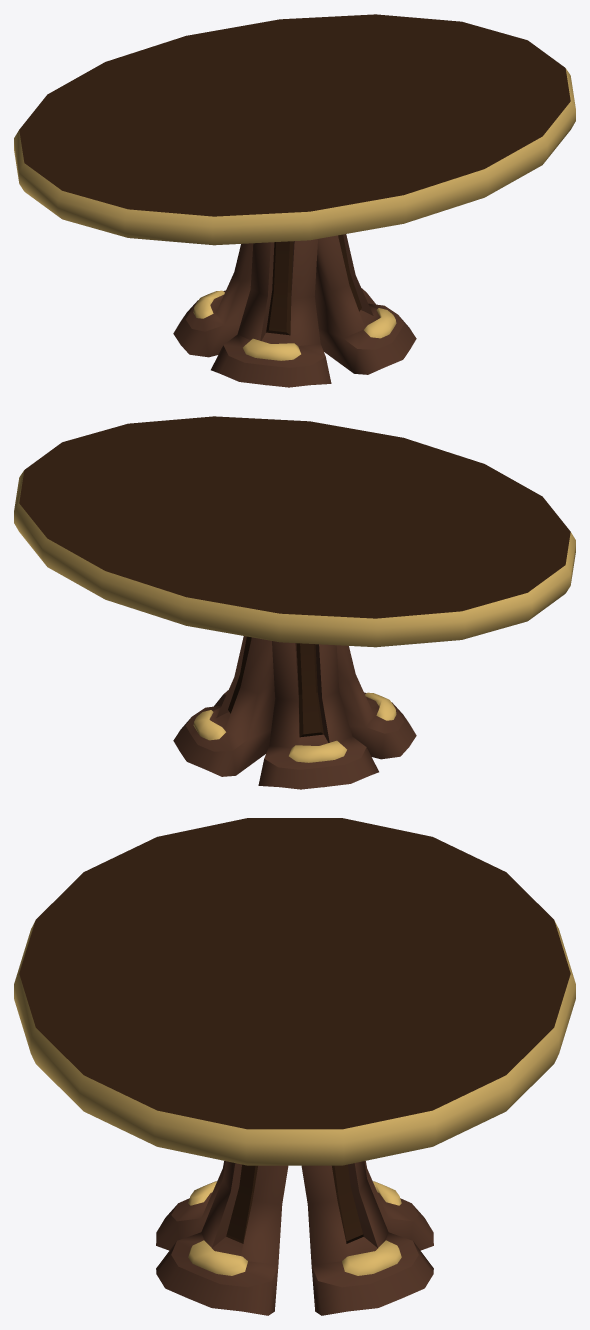
File: LoungeCoffeeTableUV.fbx
3 renders of one model, top to bottom at view 1: azimuth 30°, elevation 25°; view 2: azimuth 150°, elevation 25°; view 3: azimuth 270°, elevation 25°, orthographic. The views are drawn at different scales.
Parts seen in each view (by area): view 1: couches:polySurface28; view 2: couches:polySurface28; view 3: couches:polySurface28.
Part boxes in pixels (x1,y1,x2,y2): couches:polySurface28: [14, 14, 575, 387]; couches:polySurface28: [14, 416, 575, 789]; couches:polySurface28: [14, 818, 575, 1315].
Size of the model in its own units: 139 by 59.24 by 104.
